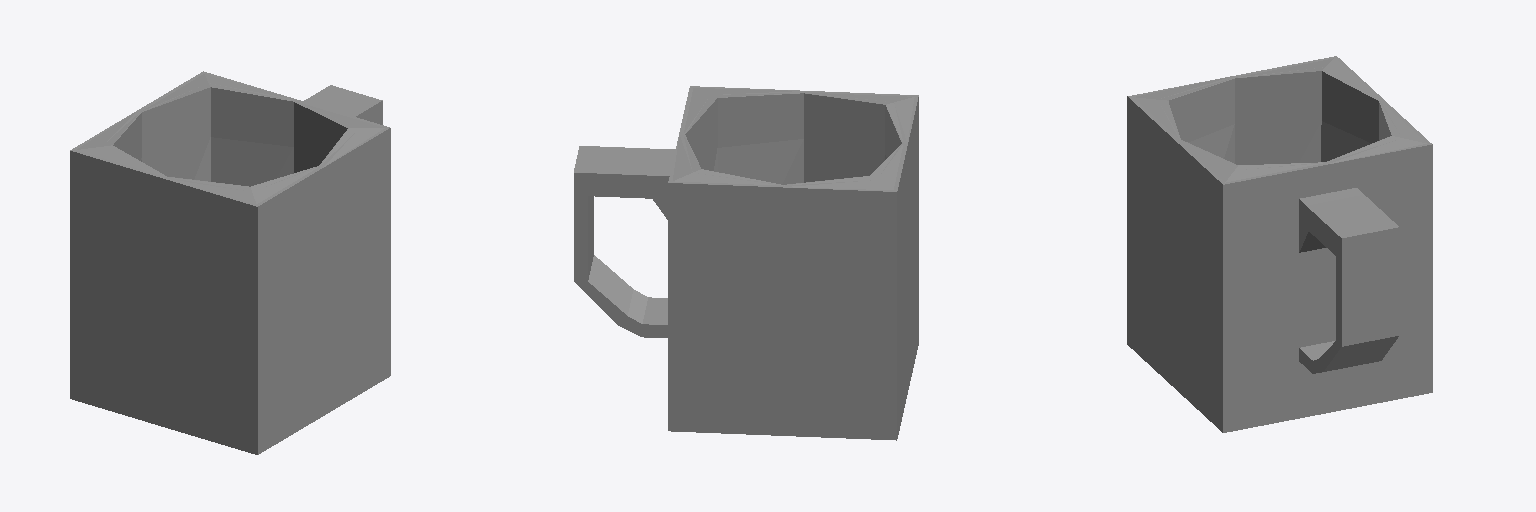
Rendered from Cup_2.obj.
3 views of the same model, side by side, from view 1: azimuth 30°, elevation 25°; view 2: azimuth 150°, elevation 25°; view 3: azimuth 270°, elevation 25° (orthographic).
Visible parts, largest first — view 1: Cup_2_Cube; view 2: Cup_2_Cube; view 3: Cup_2_Cube.
Boxes of the visible parts, x1=… form: Cup_2_Cube: x1=70, y1=71, x2=390, y2=454; Cup_2_Cube: x1=574, y1=86, x2=918, y2=440; Cup_2_Cube: x1=1127, y1=56, x2=1432, y2=432.
Bounding box in the file's own units: 0.1196 × 0.0909 × 0.1002.